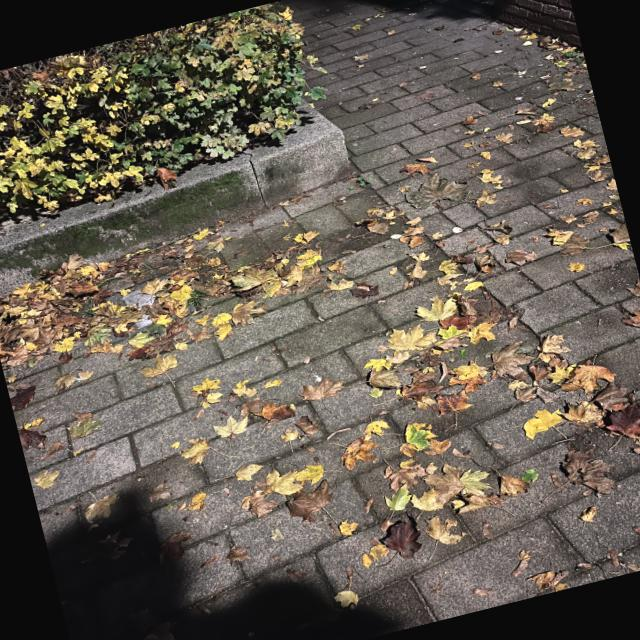leaves: (0, 221, 259, 386), (343, 250, 534, 428), (344, 382, 517, 552), (513, 337, 640, 486), (522, 86, 620, 214), (211, 478, 325, 536)
pavement: (13, 286, 429, 519), (323, 0, 566, 260), (301, 479, 640, 640), (55, 510, 368, 640), (491, 204, 640, 363)
plants: (0, 6, 318, 228)
